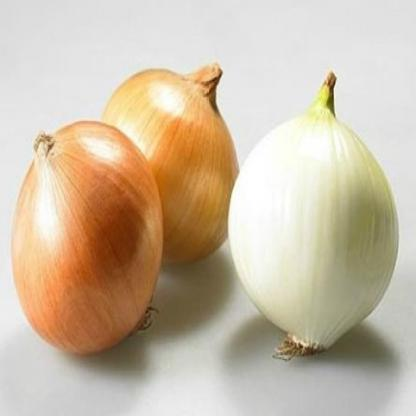onion: (235, 101, 405, 358), (22, 128, 160, 354), (108, 60, 238, 264)
